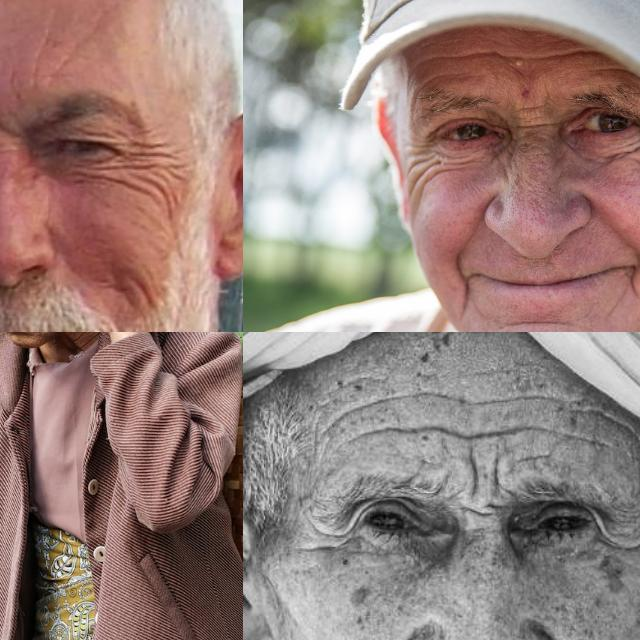chin: (507, 314, 583, 332)
crows_feet: (115, 134, 172, 186), (590, 512, 638, 558), (310, 520, 362, 560), (410, 138, 440, 180)
forehead: (452, 414, 530, 454), (406, 380, 502, 412), (360, 409, 438, 447), (28, 28, 78, 82), (572, 400, 636, 438), (544, 418, 616, 450), (336, 388, 392, 420), (434, 42, 498, 68), (516, 380, 560, 410), (518, 47, 588, 65), (412, 70, 438, 94)
frown_line: (459, 455, 506, 507), (514, 112, 550, 140), (459, 499, 497, 525), (0, 66, 10, 133)
gummy_smile: (534, 620, 586, 640), (370, 627, 413, 640)
masseter: (114, 260, 158, 310)
sad_smile: (448, 252, 474, 310), (625, 258, 640, 297)
